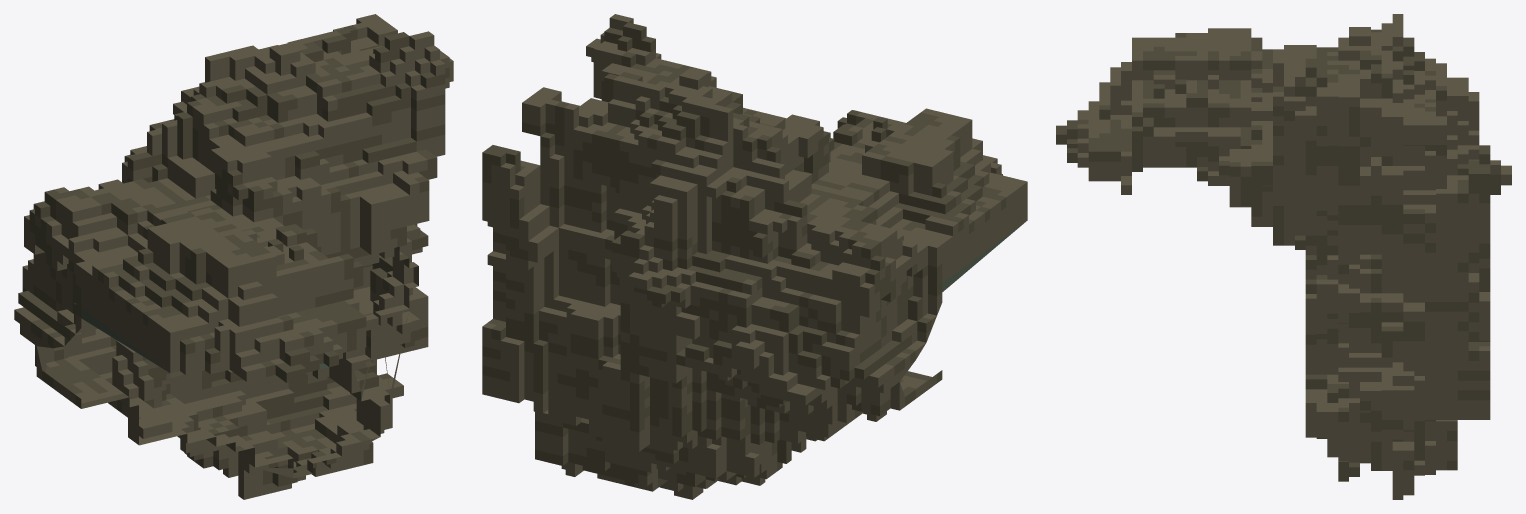
The model's file is Mountain_01.fbx.
The picture shows the model from 3 angles, left to right: view 1: azimuth 30°, elevation 25°; view 2: azimuth 150°, elevation 25°; view 3: azimuth 270°, elevation 25°; orthographic projection. The views are drawn at different scales.
Parts seen in each view (by area): view 1: Untitled; view 2: Untitled; view 3: Untitled.
Boxes of the visible parts, <box> form: Untitled: <box>14,14,453,499</box>; Untitled: <box>482,14,1027,499</box>; Untitled: <box>1056,14,1511,499</box>.
Bounding box in the file's own units: 4 × 4.4 × 4.2.
